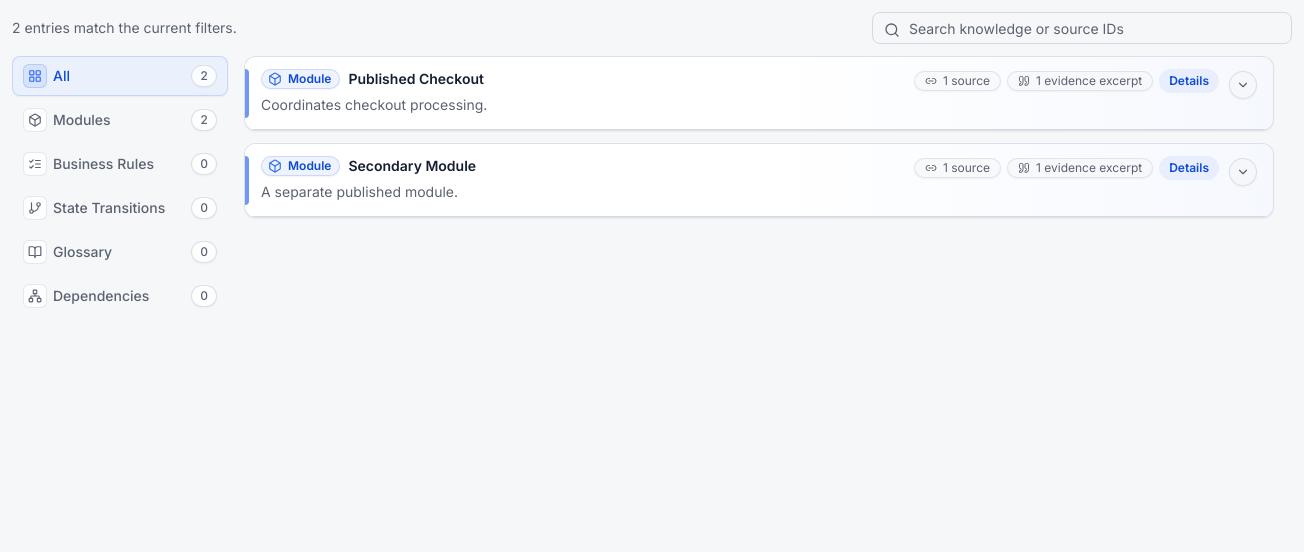
Test: Knowledge Explorer scrolling › shows the published entry fields and verified evidence through the shared details disclosure
The width and height of the screenshot is (1304, 552).
Click the button with aria-label "Show details for Published Checkout". click: (301, 79)
box: [245,57,1273,129]
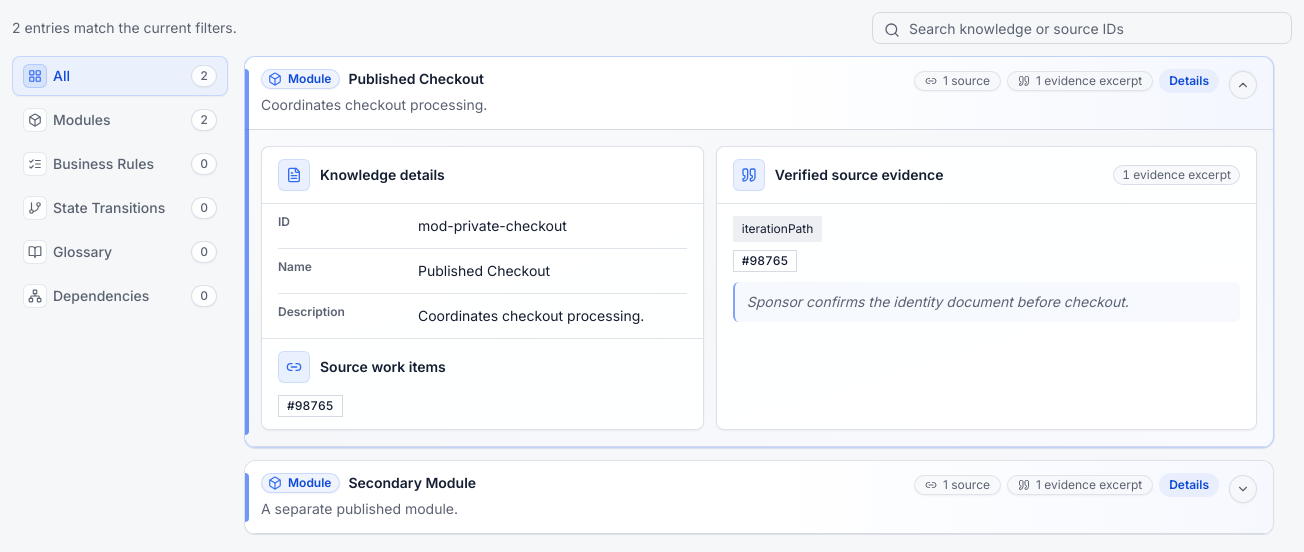
Now the text "mod-private-checkout" is shown, box [418,217,567,234]
Now the text "Sponsor confirms the identity document before checkout." is shown, box [733,282,1240,322]
Now the text "#98765" below "Source work items" is shown, box [278,395,343,417]
